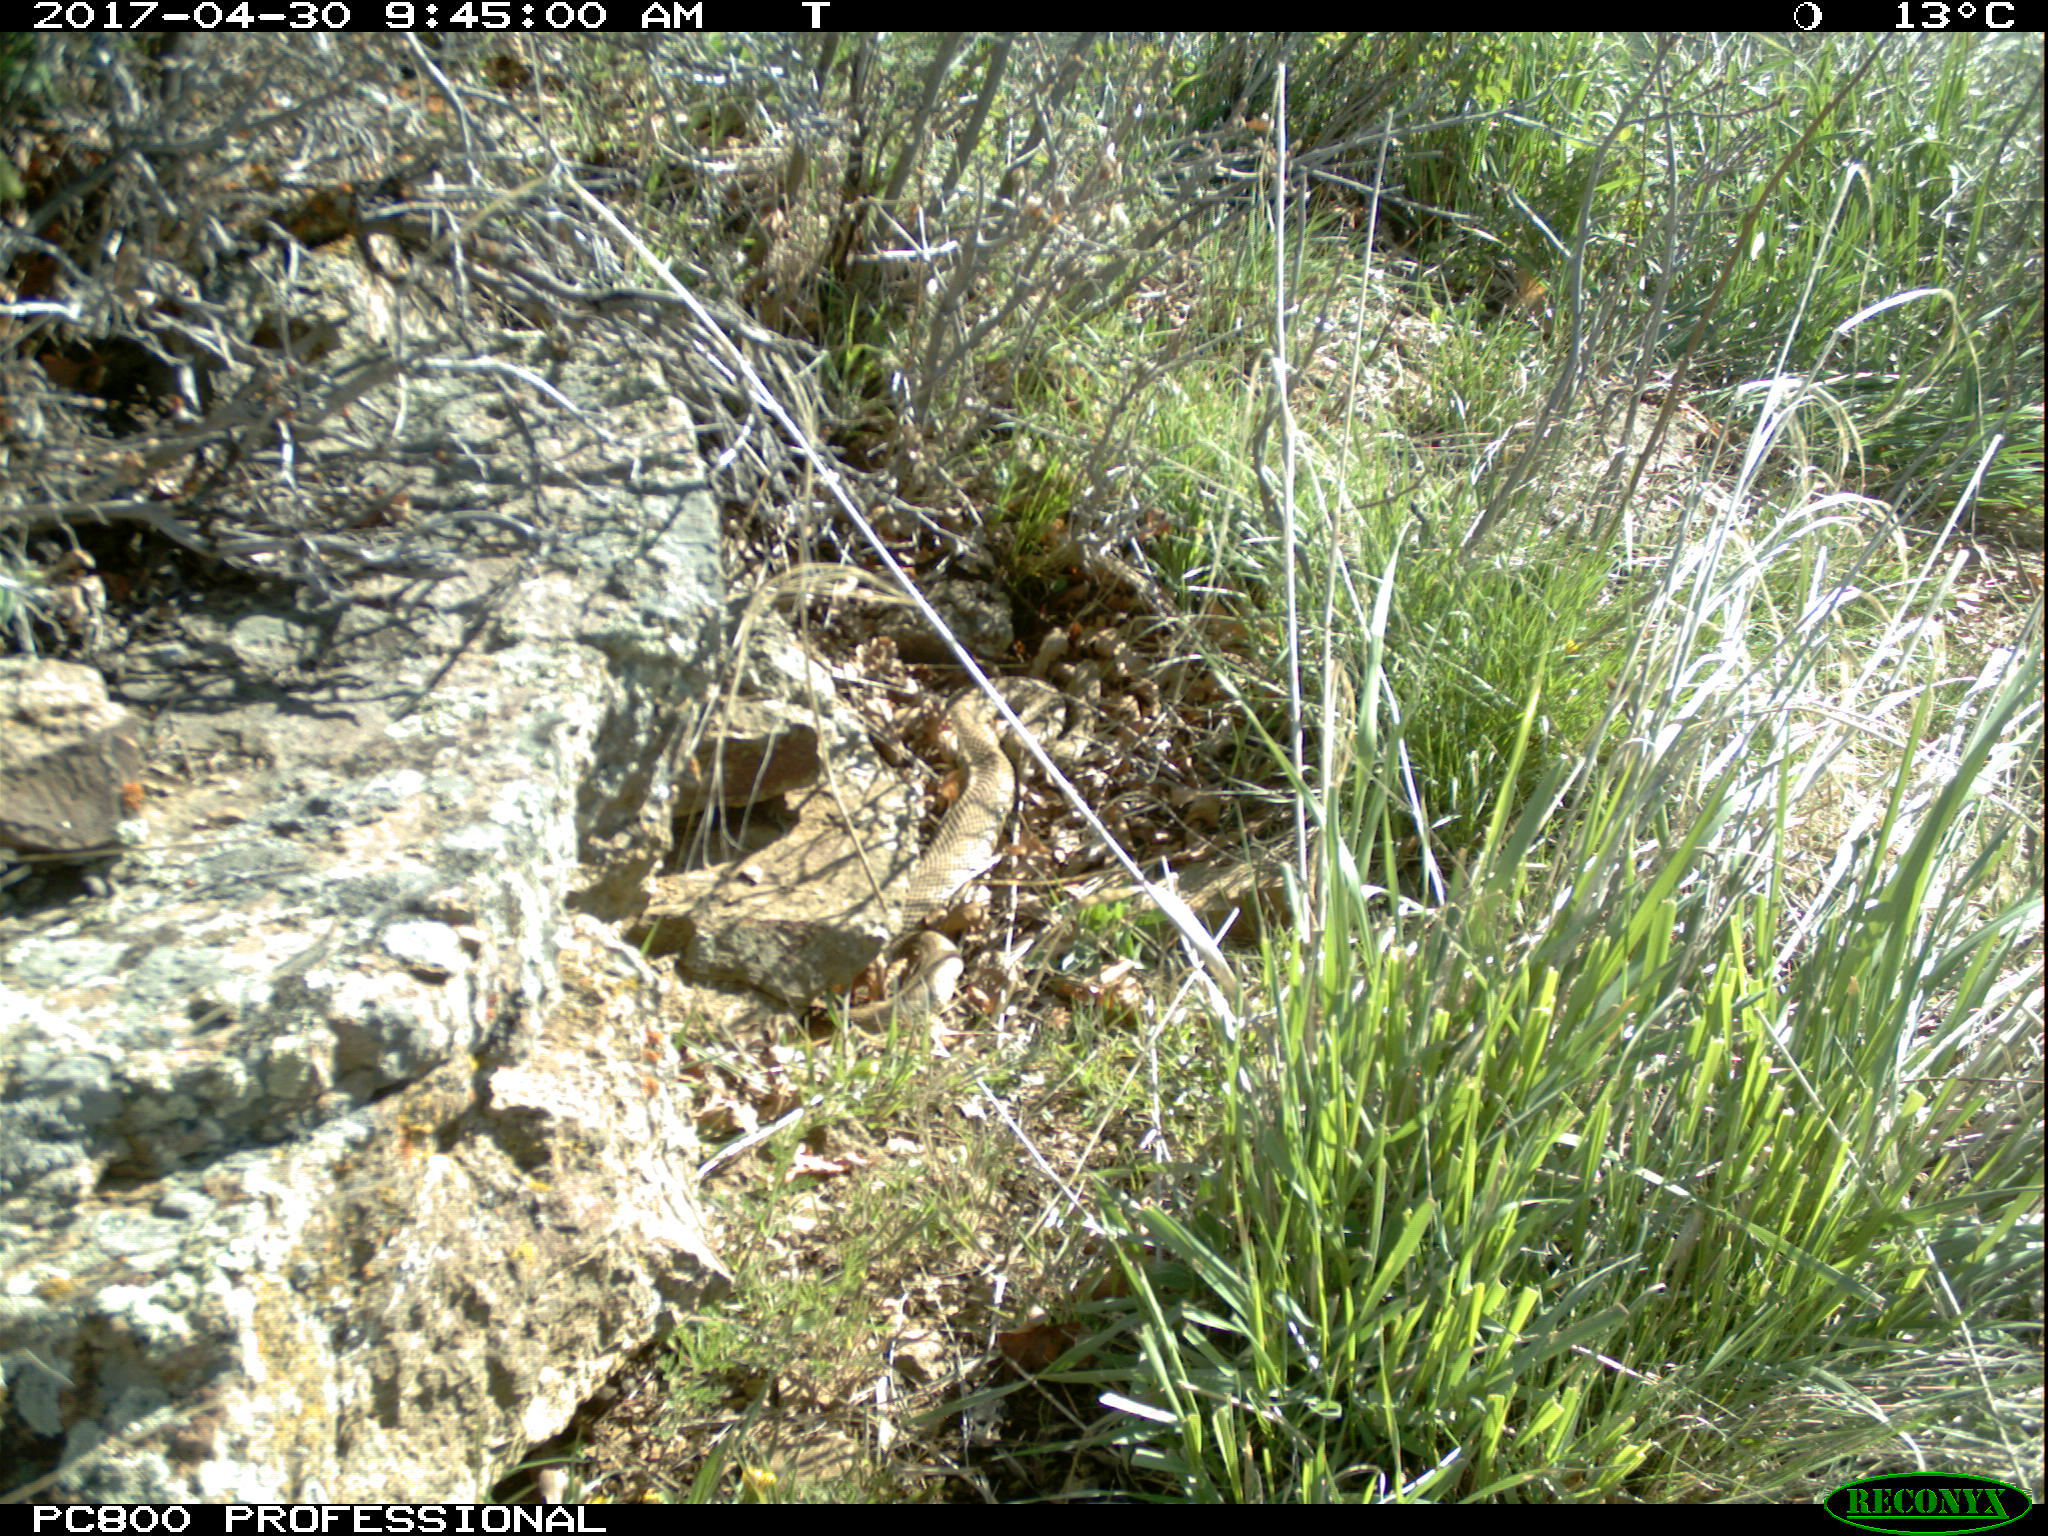snake: (890, 653, 1113, 928)
